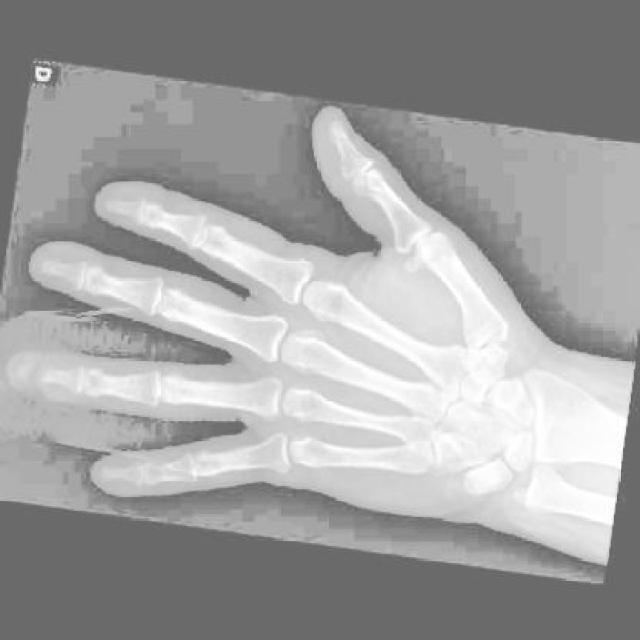Fracture: (18, 352, 57, 386)
